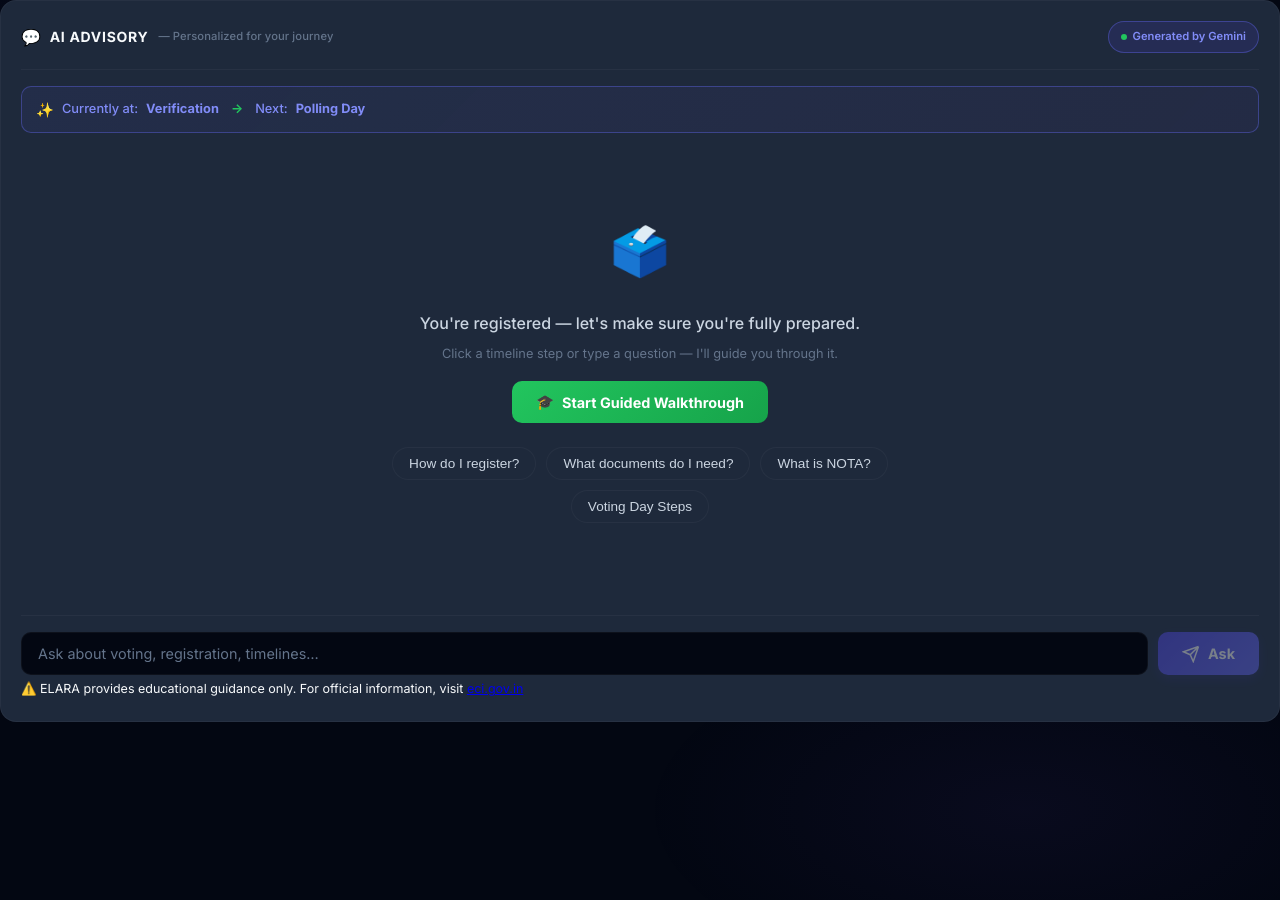
Scenario: ChatPanel › shows error message when fetch fails after retries
Type "Hello" into the field named "Type your question here" at (584, 654), box [21,632,1148,675]
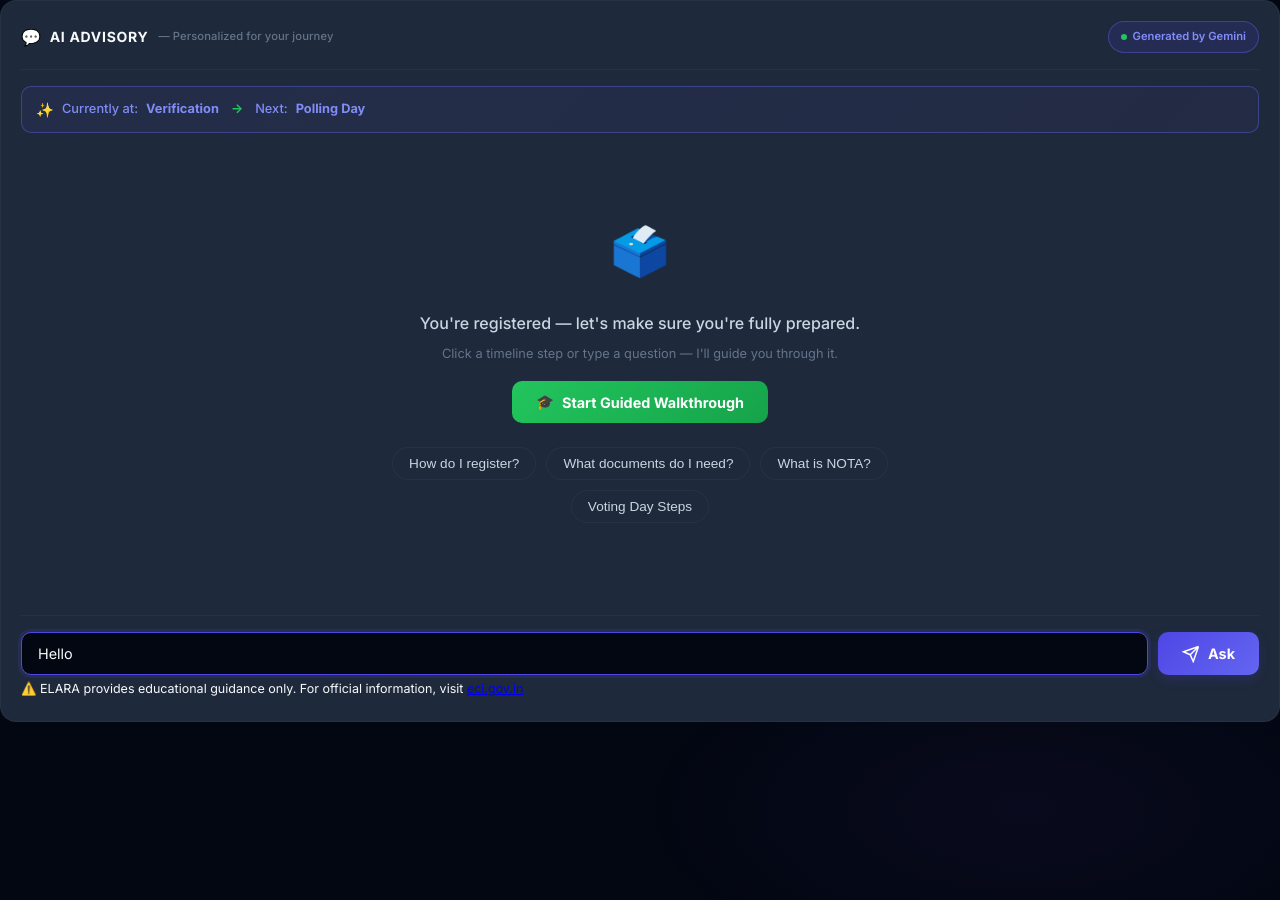
Click the button with aria-label "Send question to ELARA" at (1208, 654), box [1158,632,1259,675]
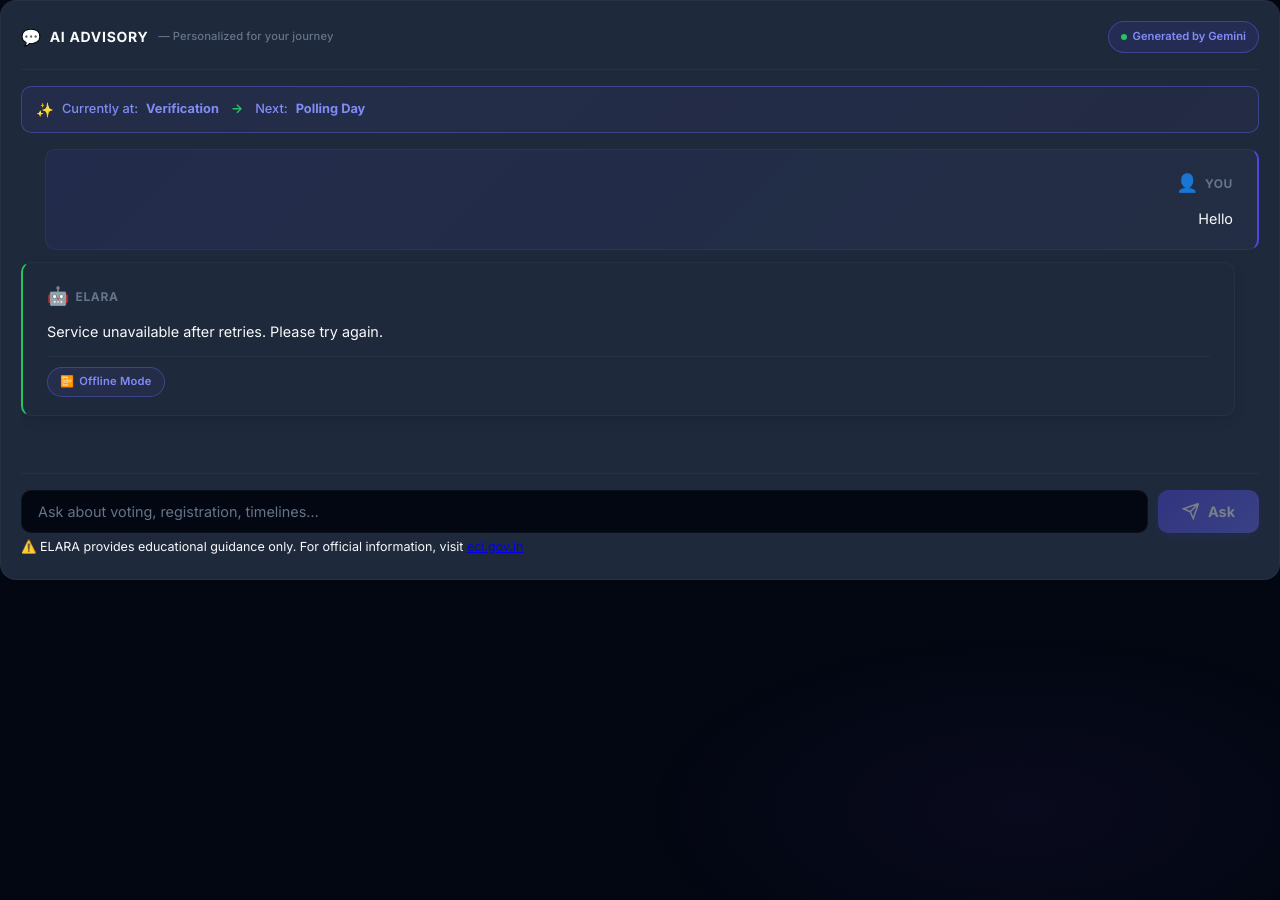
Now the text "Service unavailable after retries. Please try again." is shown, box [47,323,383,340]
